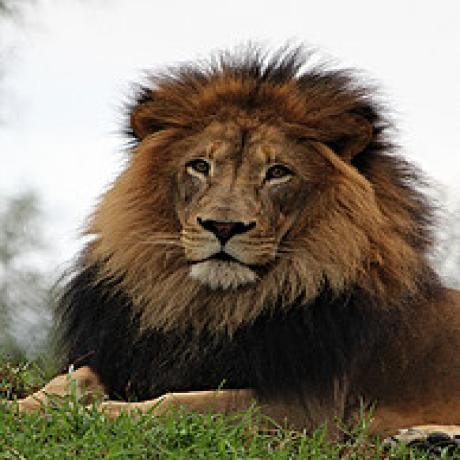Lion: (39, 38, 460, 437)
